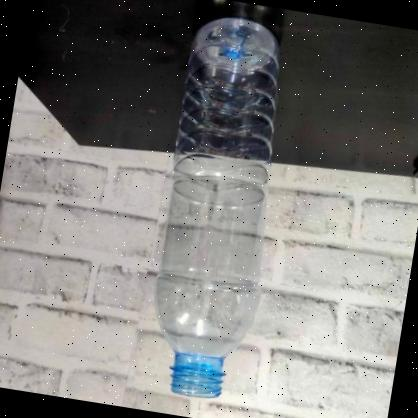bottle: (131, 8, 302, 406)
